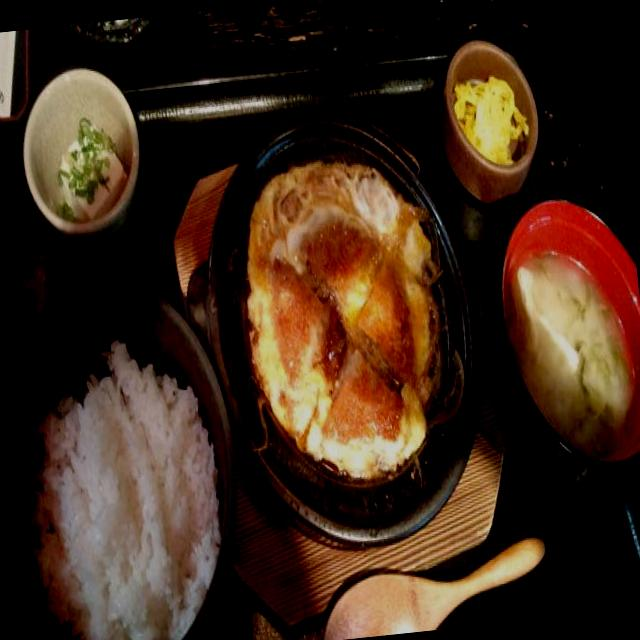Rice: (9, 325, 234, 640)
